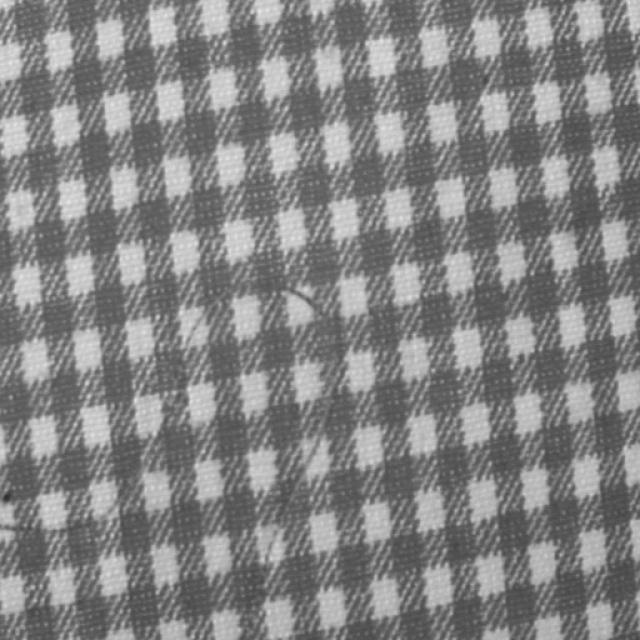Foreign-Body-Defect: (0, 260, 356, 589)
